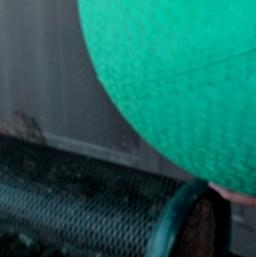algae: (74, 0, 256, 196)
